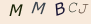B: (54, 1, 65, 16)
C: (68, 2, 77, 13)
J: (78, 3, 89, 14)
M: (8, 3, 23, 18), (31, 1, 46, 15)
